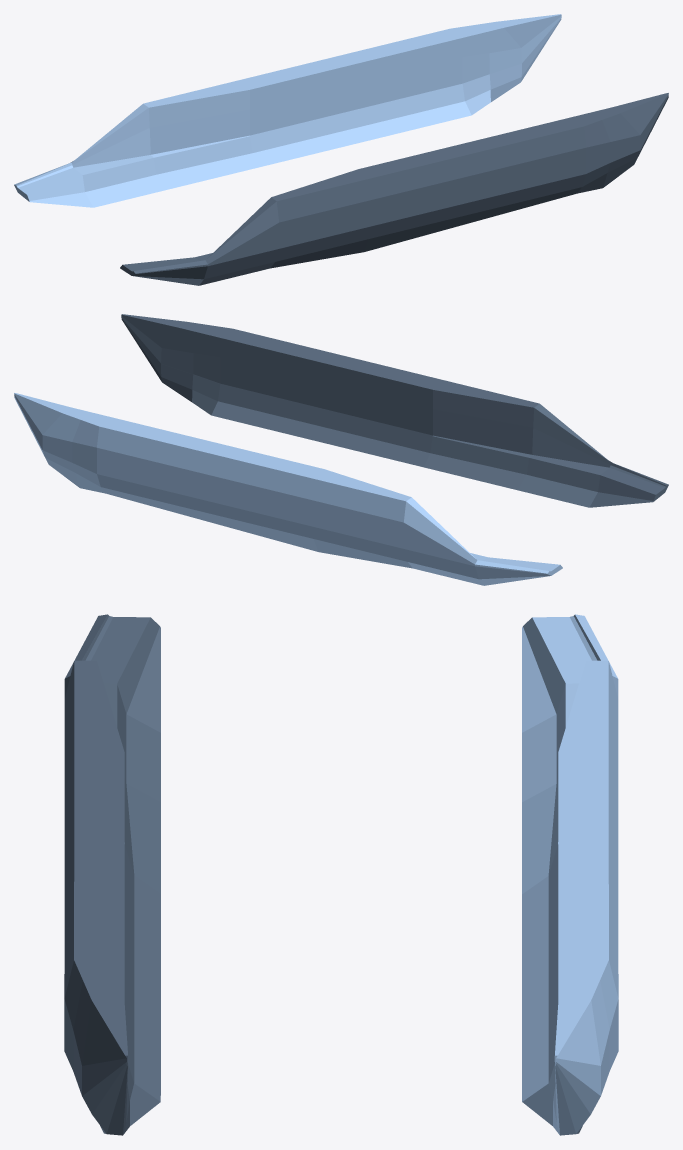
The picture shows the model from 3 angles, top to bottom: view 1: azimuth 30°, elevation 25°; view 2: azimuth 150°, elevation 25°; view 3: azimuth 270°, elevation 25°; orthographic projection. The views are drawn at different scales.
Visible parts, largest first — view 1: 立方体.024, 立方体.015; view 2: 立方体.015, 立方体.024; view 3: 立方体.024, 立方体.015.
Boxes of the visible parts, bbox=[...] form: 立方体.024: bbox=[14, 14, 561, 207]; 立方体.015: bbox=[120, 93, 668, 285]; 立方体.015: bbox=[121, 314, 668, 507]; 立方体.024: bbox=[14, 393, 562, 585]; 立方体.024: bbox=[522, 614, 618, 1135]; 立方体.015: bbox=[64, 614, 160, 1135].
Bounding box in the file's own units: 8.26 × 1.15 × 3.67.
